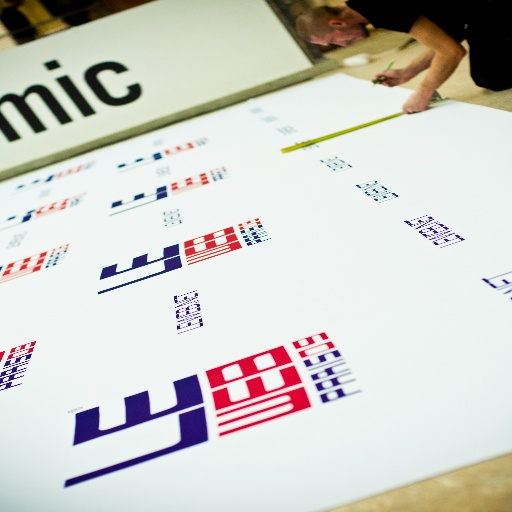hand: (367, 67, 405, 88), (399, 92, 429, 112)
